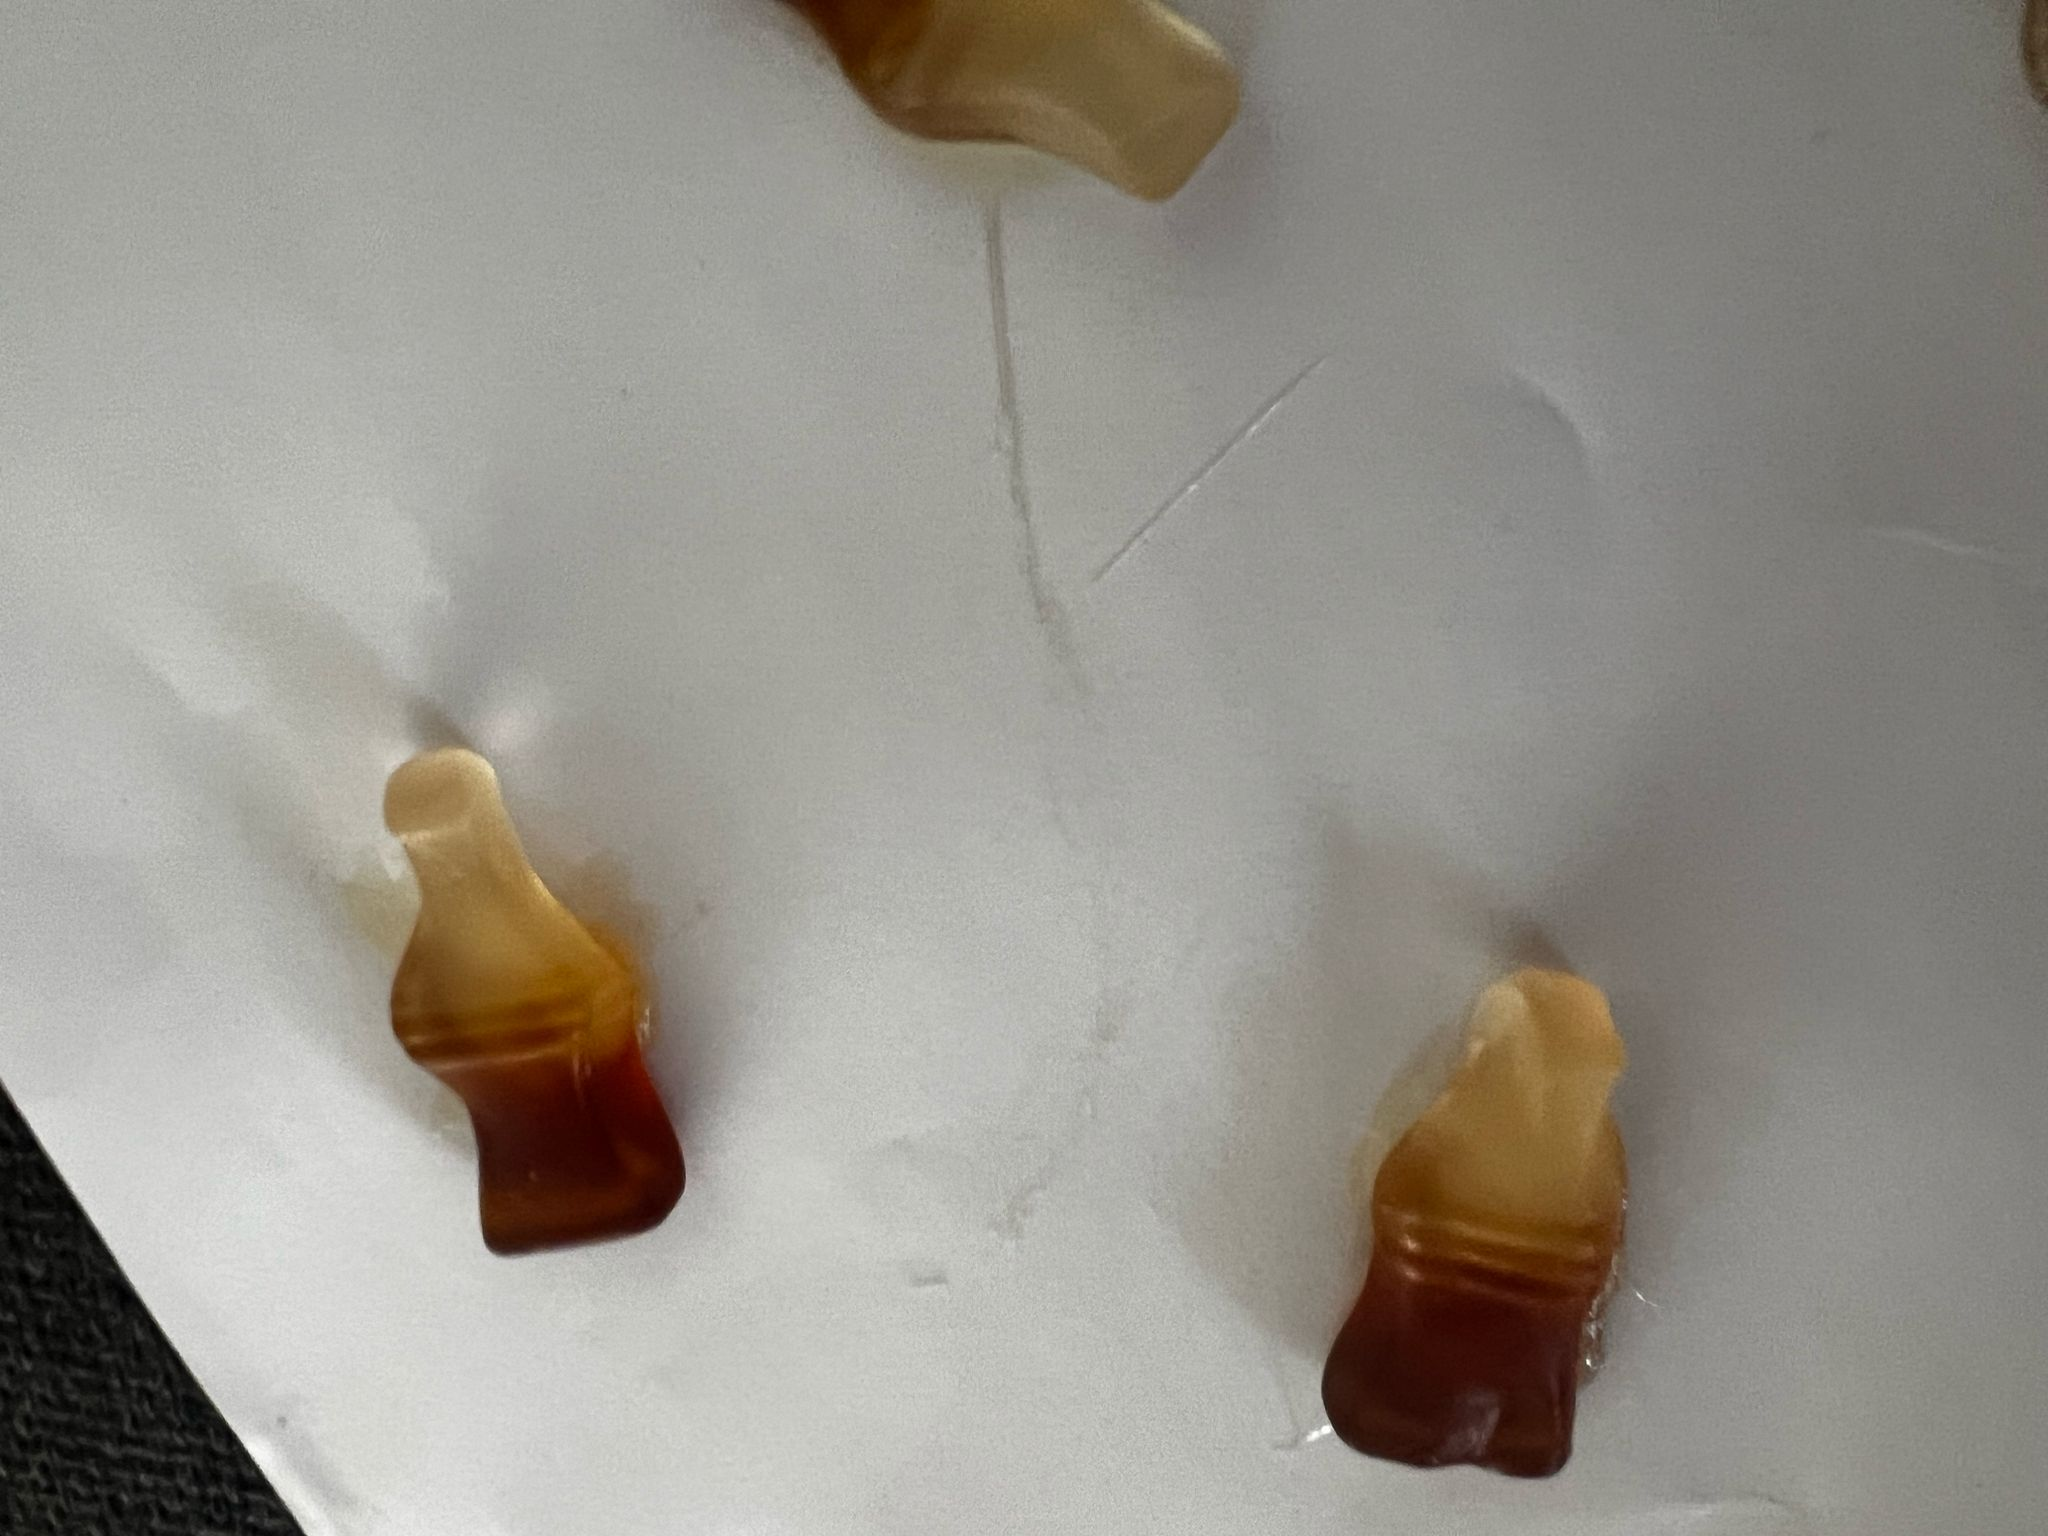cola: (740, 892, 1209, 1233), (1542, 837, 1992, 1149), (1593, 171, 1916, 515), (56, 139, 369, 482), (972, 181, 1226, 539)
